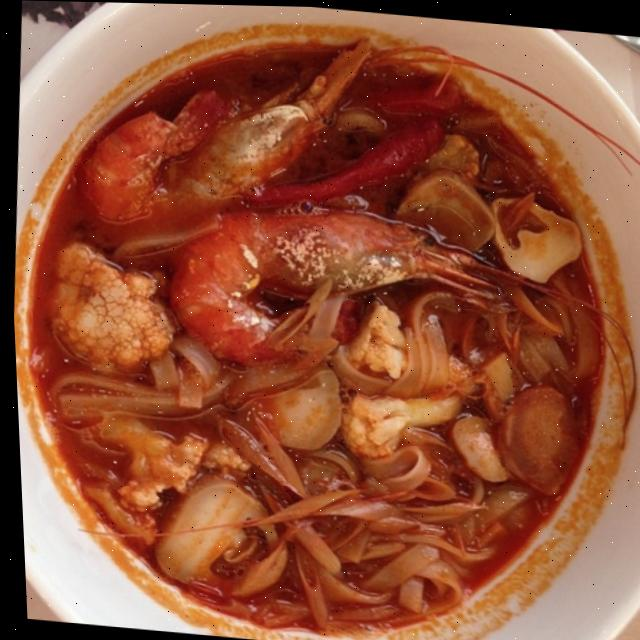汤锅炖物: (12, 0, 640, 640)
